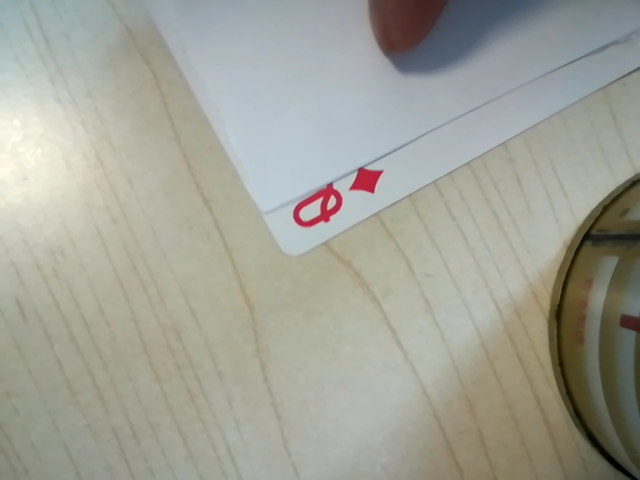fk q: (278, 166, 381, 236)
